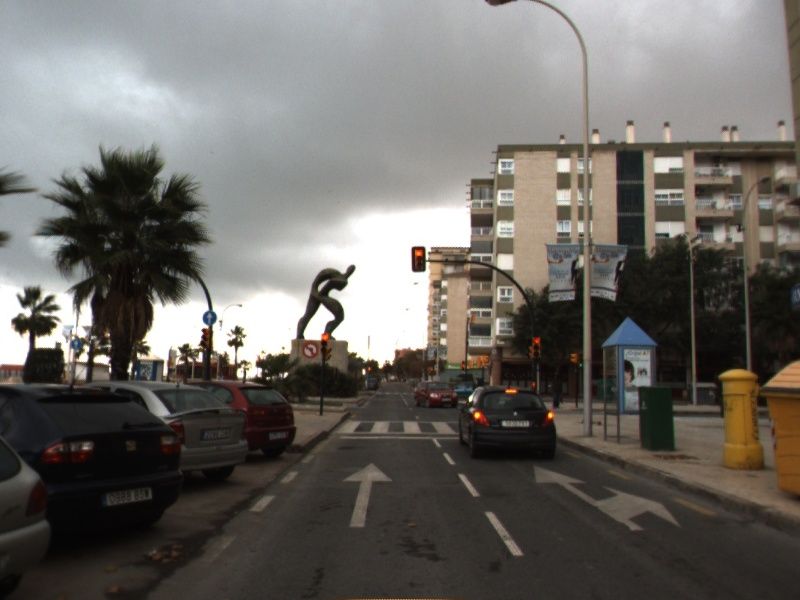STRAIGHT: (340, 461, 394, 529)
STRAIGHT_RIGHT: (532, 464, 684, 533)
